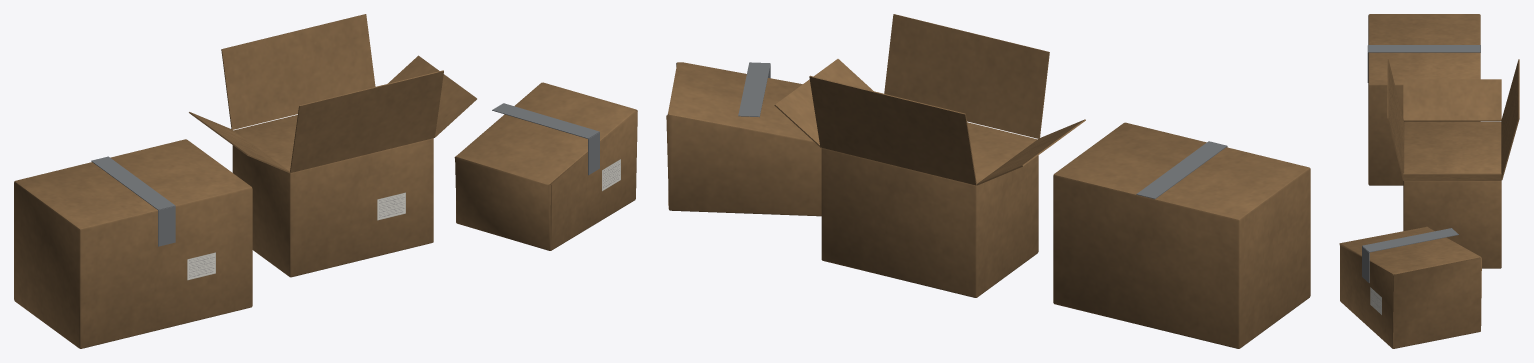
File: CardboardBoxes.fbx
The picture shows the model from 3 angles, left to right: view 1: azimuth 30°, elevation 25°; view 2: azimuth 150°, elevation 25°; view 3: azimuth 270°, elevation 25°; orthographic projection. The views are drawn at different scales.
Parts seen in each view (by area): view 1: Box_Open, Box_Closed, Box_Crushed; view 2: Box_Open, Box_Closed, Box_Crushed; view 3: Box_Open, Box_Crushed, Box_Closed.
Boxes of the visible parts, left/top/right/bottom form: Box_Open: left=189, top=14, right=476, bottom=277; Box_Closed: left=14, top=139, right=252, bottom=348; Box_Crushed: left=454, top=82, right=637, bottom=250; Box_Open: left=774, top=14, right=1085, bottom=297; Box_Closed: left=1053, top=122, right=1310, bottom=348; Box_Crushed: left=666, top=62, right=821, bottom=216; Box_Open: left=1387, top=59, right=1519, bottom=268; Box_Crushed: left=1339, top=226, right=1481, bottom=348; Box_Closed: left=1367, top=14, right=1480, bottom=185.
Size of the model in its own units: 1.98 by 0.5942 by 0.6417.
